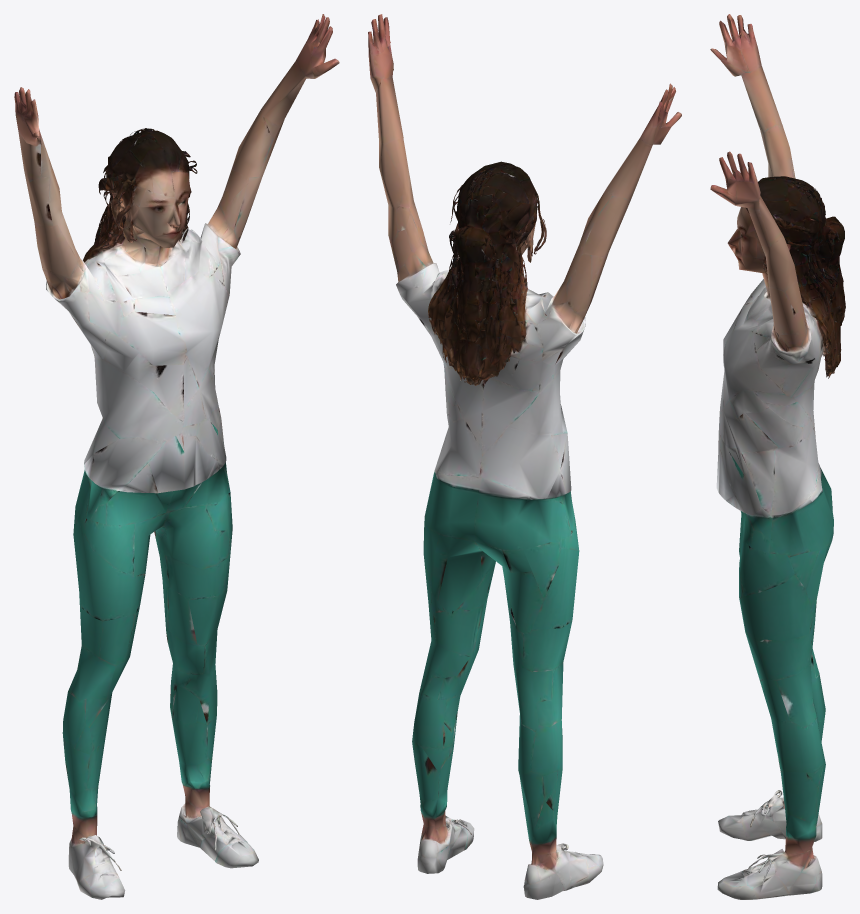
3 renders of one model, left to right at view 1: azimuth 30°, elevation 25°; view 2: azimuth 150°, elevation 25°; view 3: azimuth 270°, elevation 25°, orthographic. The views are drawn at different scales.
Bounding box in the file's own units: 0.623 × 1.62 × 0.2549.
1 material, 1 textured.
